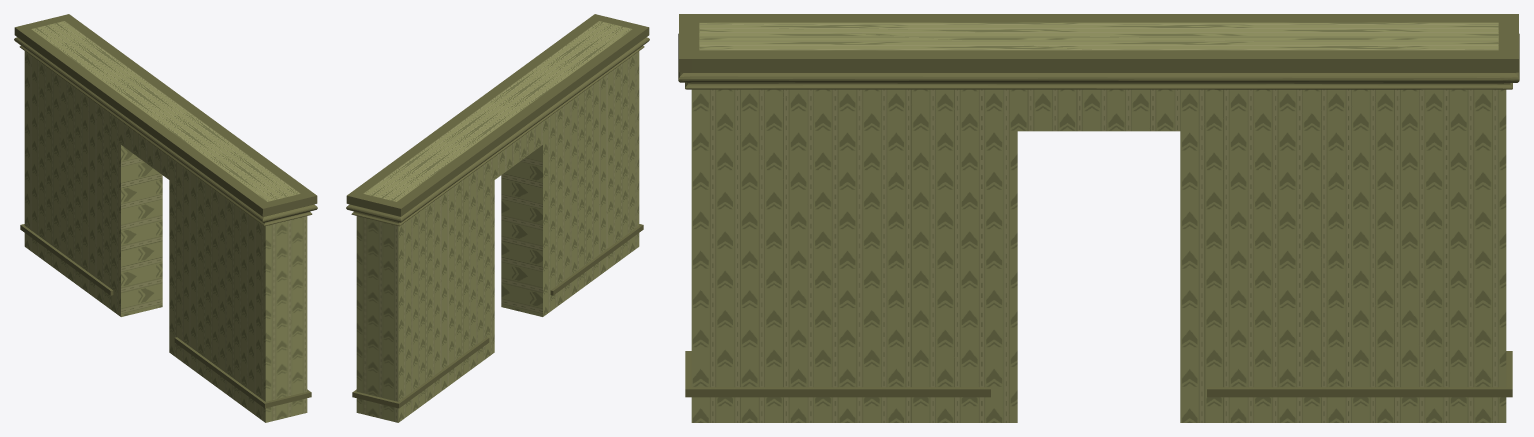
File: wall + door.fbx
The picture shows the model from 3 angles, left to right: view 1: azimuth 30°, elevation 25°; view 2: azimuth 150°, elevation 25°; view 3: azimuth 270°, elevation 25°; orthographic projection. The views are drawn at different scales.
Parts seen in each view (by area): view 1: wall, wall skirting, Cube.003, Cube.004; view 2: wall, wall skirting, Cube.004, Cube.003; view 3: wall, wall skirting, Cube.003, Cube.004.
Part boxes in pixels (x1,y1,x2,y2): wall: [24, 21, 307, 422]; wall skirting: [14, 14, 317, 226]; Cube.003: [174, 337, 311, 408]; Cube.004: [20, 224, 113, 295]; wall: [356, 21, 639, 422]; wall skirting: [346, 14, 649, 226]; Cube.004: [352, 337, 489, 408]; Cube.003: [550, 224, 643, 295]; wall: [691, 22, 1506, 422]; wall skirting: [678, 14, 1519, 89]; Cube.003: [685, 351, 990, 397]; Cube.004: [1207, 351, 1512, 397].
Size of the model in its own units: 265 by 1000 by 2065.
